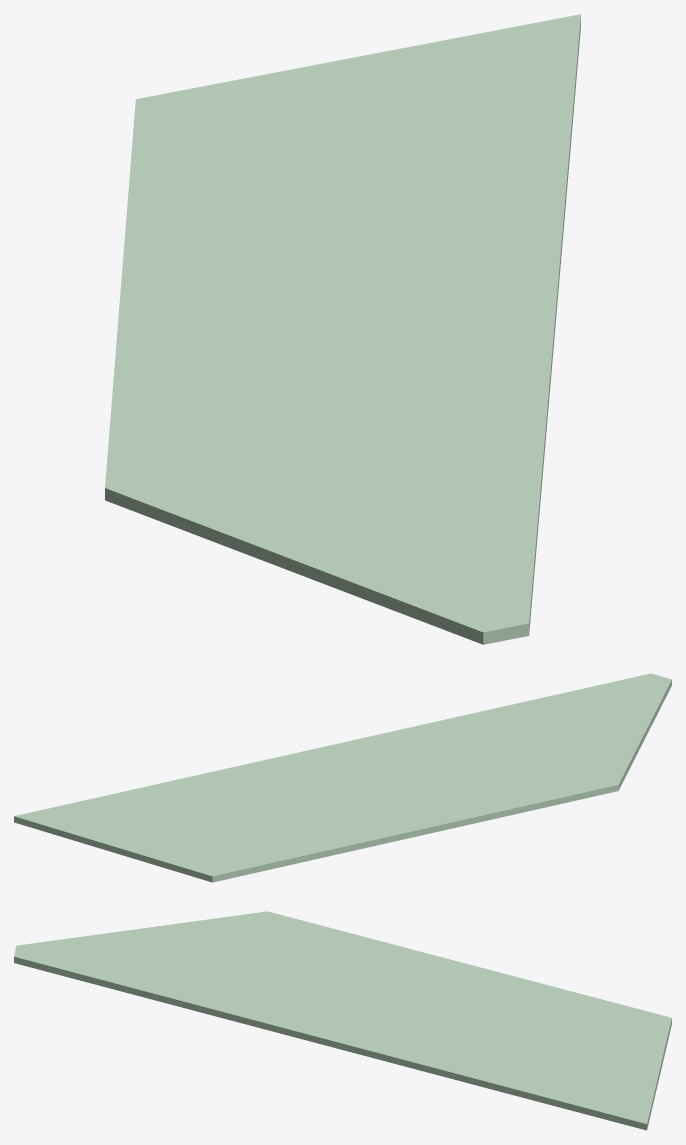
The model's file is green_areas_v1-cd2853061a36.glb.
3 views of the same model, one above another, from view 1: azimuth 30°, elevation 25°; view 2: azimuth 150°, elevation 25°; view 3: azimuth 270°, elevation 25° (orthographic). The views are drawn at different scales.
Visible parts, largest first — view 1: mesh; view 2: mesh; view 3: mesh.
Part boxes in pixels (box(x1,y1,x2,y2)): mesh: box(105, 14, 580, 644); mesh: box(14, 673, 671, 882); mesh: box(14, 911, 671, 1130).
Bounding box in the file's own units: 224 × 3.14 × 292.
